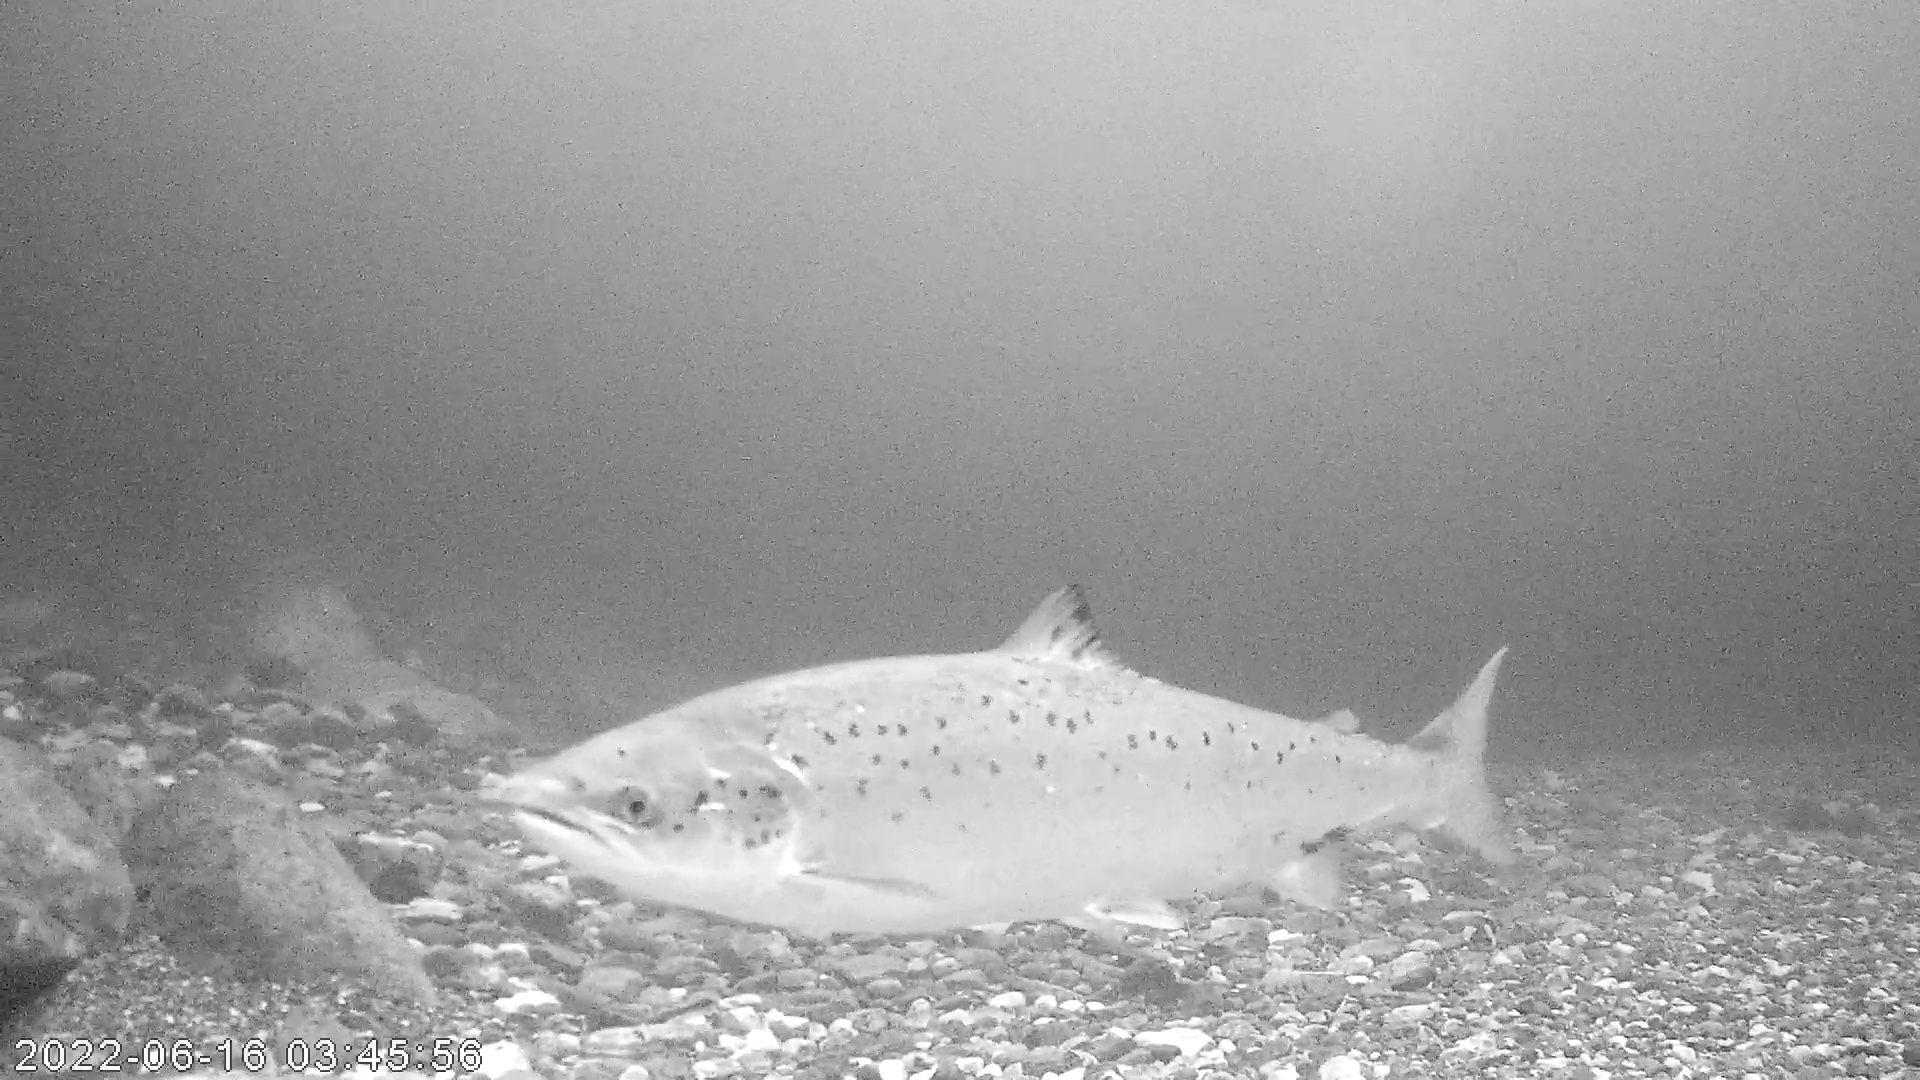salmon: (497, 578, 1523, 936)
